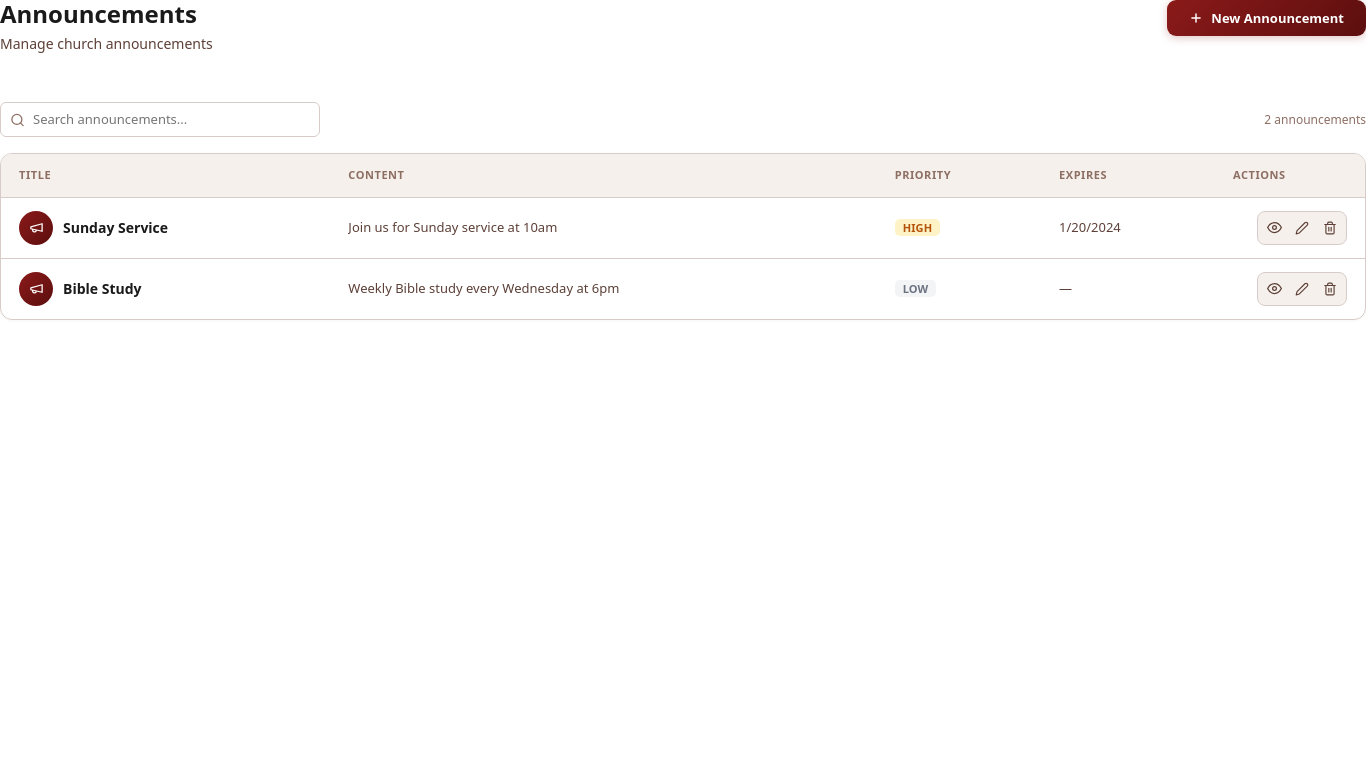
Test: Announcements › populates priority, expiresAt, and rolesAllowed when editing
Click the button named "Edit" in the row of "Join us for Sunday service at 10am".
click(1302, 228)  # box x1=1288 y1=214 x2=1316 y2=242
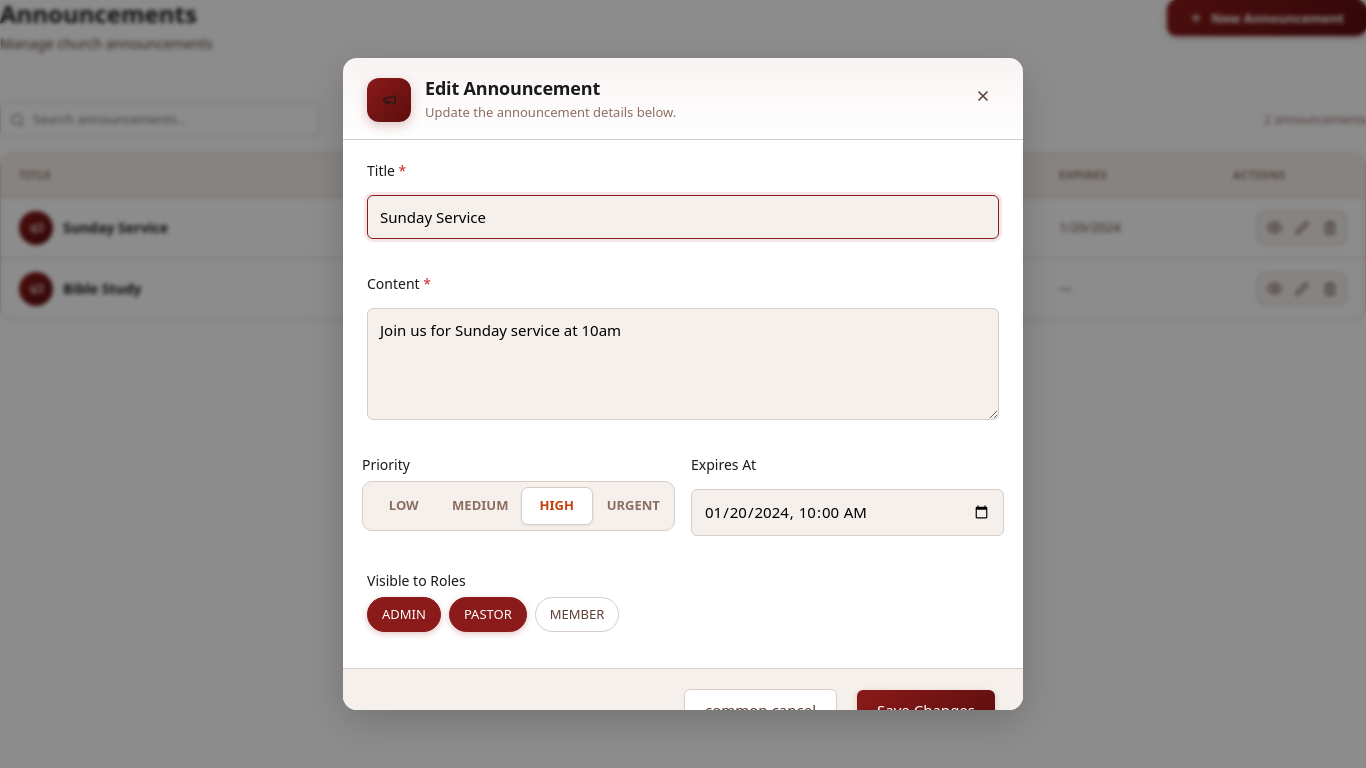
Result: the radio button with class "seg-btn" reads "HIGH" at x1=521 y1=487 x2=592 y2=525
